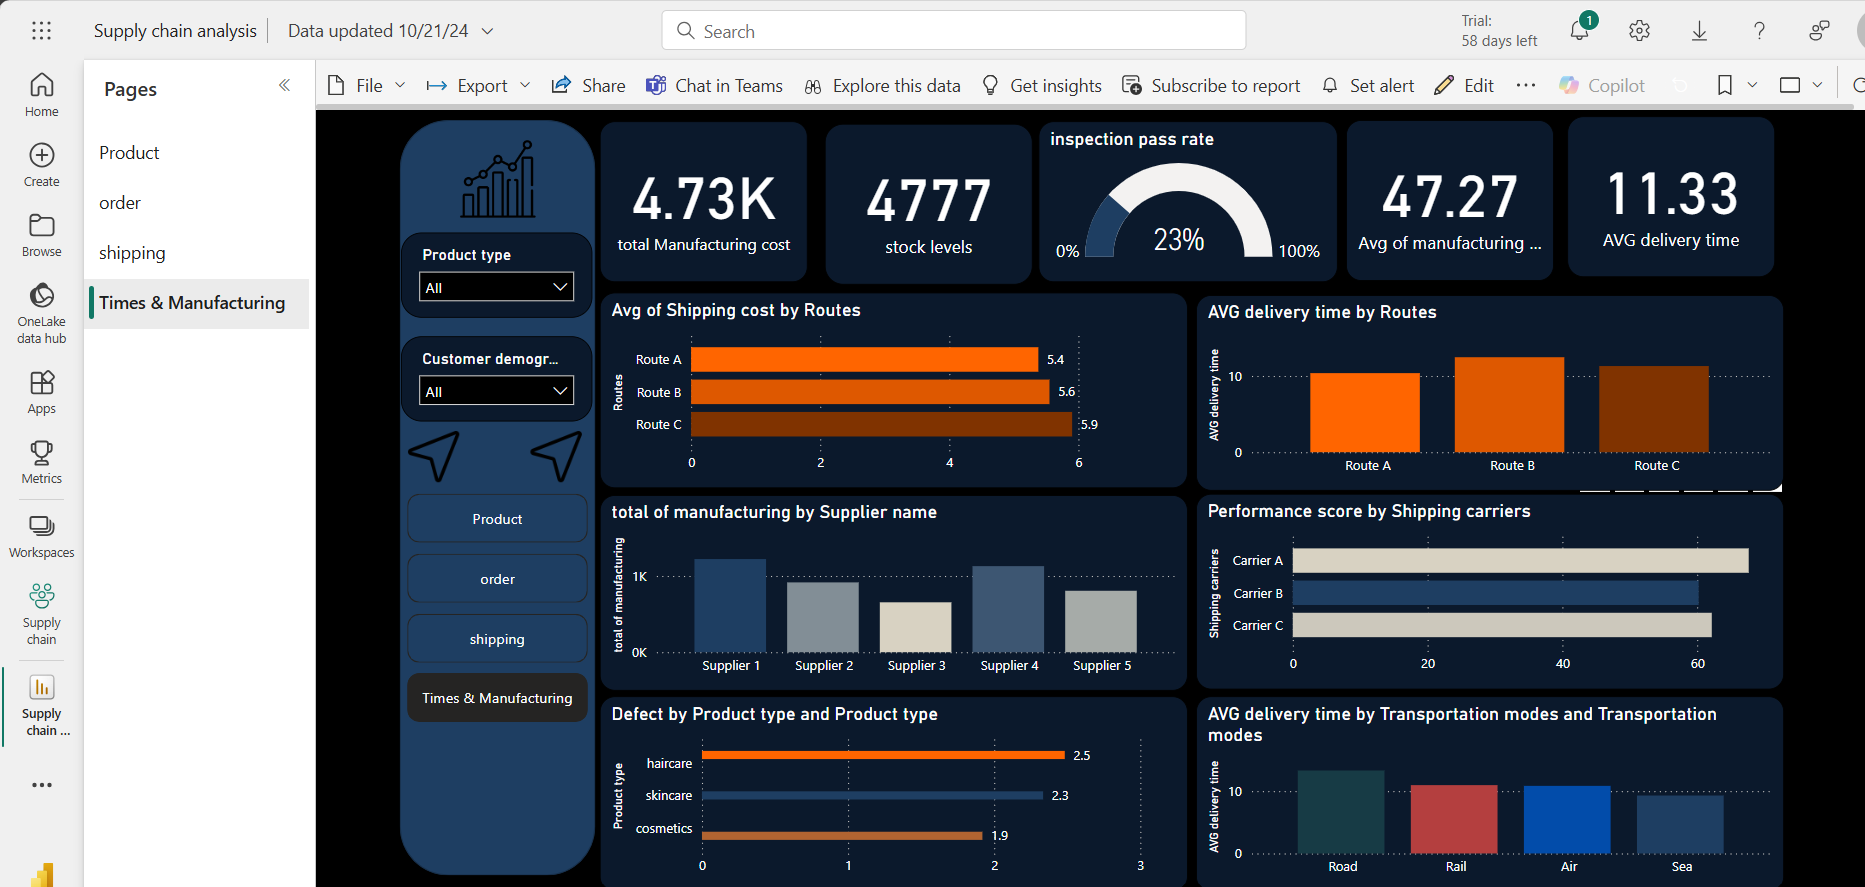

The dashboard page shown, as its layout file describes it:
{"tool":"powerbi","page":{"name":"Times & Manufacturing","canvas":[1280,720],"ordinal":3},"visuals":[{"type":"shape","box":[3.9,9,179.8,694.7],"z":0},{"type":"card","fields":{"Values":["calculated_measures.total Manufacturing cost"]},"box":[187.5,10.7,191.1,148.2],"z":1000},{"type":"card","fields":{"Values":["calculated_measures.stock levels"]},"box":[394.6,12.5,191.1,148.2],"z":2000},{"type":"card","fields":{"Values":["calculated_measures.Avg of manufacturing cost"]},"box":[873.2,8.9,191.1,148],"z":3000},{"type":"card","fields":{"Values":["calculated_measures.AVG delivery time"]},"box":[1076.8,5.4,191.1,148.2],"z":4000},{"type":"gauge","fields":{"Y":["calculated_measures.inspection pass rate"]},"box":[591.1,10.7,275,148.2],"z":5000},{"type":"columnChart","fields":{"Category":["Dim_shipping.Supplier name"],"Y":["calculated_measures.total of manufacturing"]},"box":[187.5,353.6,541.1,180.4],"z":6000},{"type":"barChart","fields":{"Category":["Dim_shipping.Routes"],"Y":["calculated_measures.Avg of Shipping cost"]},"box":[187.5,167.9,541.1,180.4],"z":7000},{"type":"clusteredBarChart","fields":{"Category":["Dim_product.Product type"],"Y":["calculated_measures.Defect"],"Series":["Dim_product.Product type"]},"box":[187.5,539.3,541,180],"z":8000},{"type":"columnChart","fields":{"Category":["Dim_shipping.Transportation modes"],"Y":["calculated_measures.AVG delivery time"],"Series":["Dim_shipping.Transportation modes"]},"box":[735.7,539.3,541.1,180.4],"z":9000},{"type":"barChart","fields":{"Category":["Dim_shipping.Shipping carriers"],"Y":["calculated_measures.Performance score for Carriers"]},"box":[735.8,353.1,540.6,179.8],"z":10000},{"type":"columnChart","fields":{"Category":["Dim_shipping.Routes"],"Y":["calculated_measures.AVG delivery time"]},"box":[735.7,169.6,541.1,180.4],"z":11000},{"type":"slicer","fields":{"Values":["Dim_product.Product type"]},"box":[5.1,113,175.9,78.3],"z":12000},{"type":"slicer","fields":{"Values":["Fact_sales.Customer demographics"]},"box":[5.1,208,175.9,78.3],"z":13000},{"type":"pageNavigator","box":[10.3,353.1,166.9,213.2],"z":14000},{"type":"image","box":[5.1,283.8,60.4,69.3],"z":15000},{"type":"image","box":[116.9,283.8,60.4,69.3],"z":16000},{"type":"image","box":[25.7,23.1,137.4,80.9],"z":17000}]}

Visuals, with their boxes on the page's 1280x720 design canvas (x1, y1, x2, y2). These are canvas units, not pixel positions in the 1865x887 screenshot, which may show the page scaled, cropped or inside an application window:
shape: crop(4, 9, 184, 704)
card - calculated_measures.total Manufacturing cost: crop(188, 11, 379, 159)
card - calculated_measures.stock levels: crop(395, 12, 586, 161)
card - calculated_measures.Avg of manufacturing cost: crop(873, 9, 1064, 157)
card - calculated_measures.AVG delivery time: crop(1077, 5, 1268, 154)
gauge - calculated_measures.inspection pass rate: crop(591, 11, 866, 159)
columnChart - Dim_shipping.Supplier name x calculated_measures.total of manufacturing: crop(188, 354, 729, 534)
barChart - Dim_shipping.Routes x calculated_measures.Avg of Shipping cost: crop(188, 168, 729, 348)
clusteredBarChart - Dim_product.Product type x calculated_measures.Defect: crop(188, 539, 728, 719)
columnChart - Dim_shipping.Transportation modes x calculated_measures.AVG delivery time: crop(736, 539, 1277, 720)
barChart - Dim_shipping.Shipping carriers x calculated_measures.Performance score for Carriers: crop(736, 353, 1276, 533)
columnChart - Dim_shipping.Routes x calculated_measures.AVG delivery time: crop(736, 170, 1277, 350)
slicer - Dim_product.Product type: crop(5, 113, 181, 191)
slicer - Fact_sales.Customer demographics: crop(5, 208, 181, 286)
pageNavigator: crop(10, 353, 177, 566)
image: crop(5, 284, 66, 353)
image: crop(117, 284, 177, 353)
image: crop(26, 23, 163, 104)
